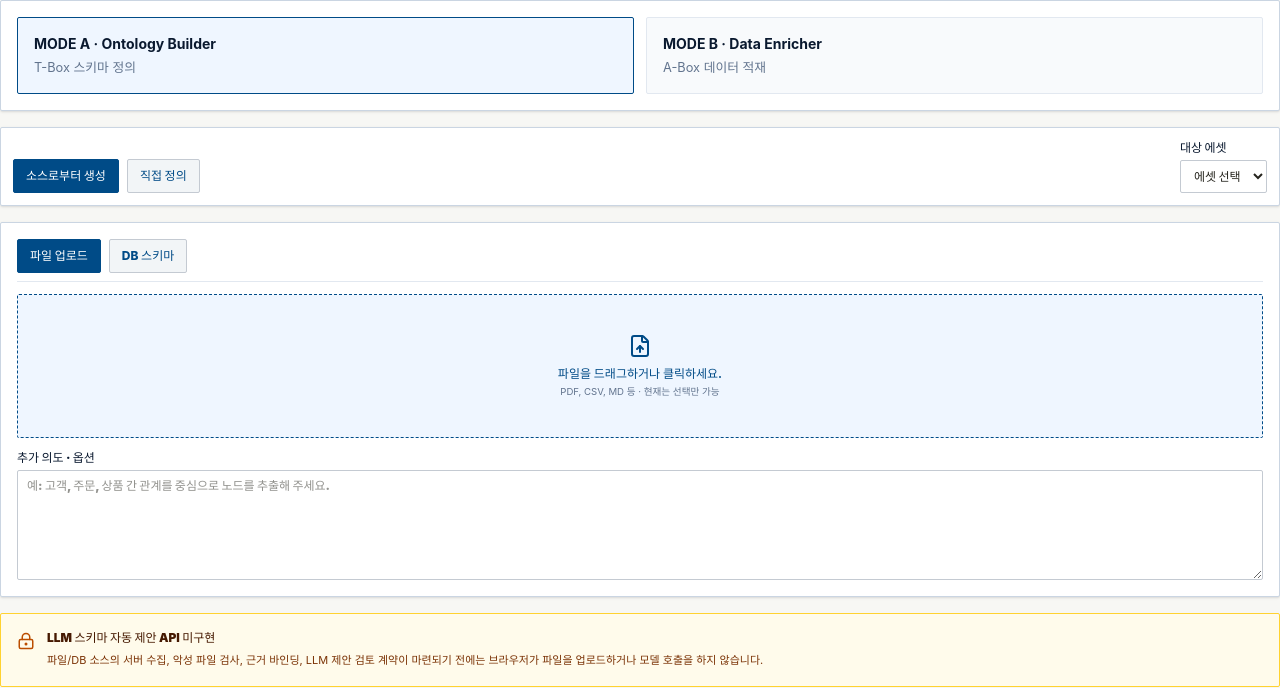
Test case: KnowledgeIngestionStudio › renders at most one owner-scoped history page and follows its opaque cursor
Click the button "MODE B · Data Enricher A-Box 데이터 적재": (742,44) [646,17,1263,94]
(page scrolled)
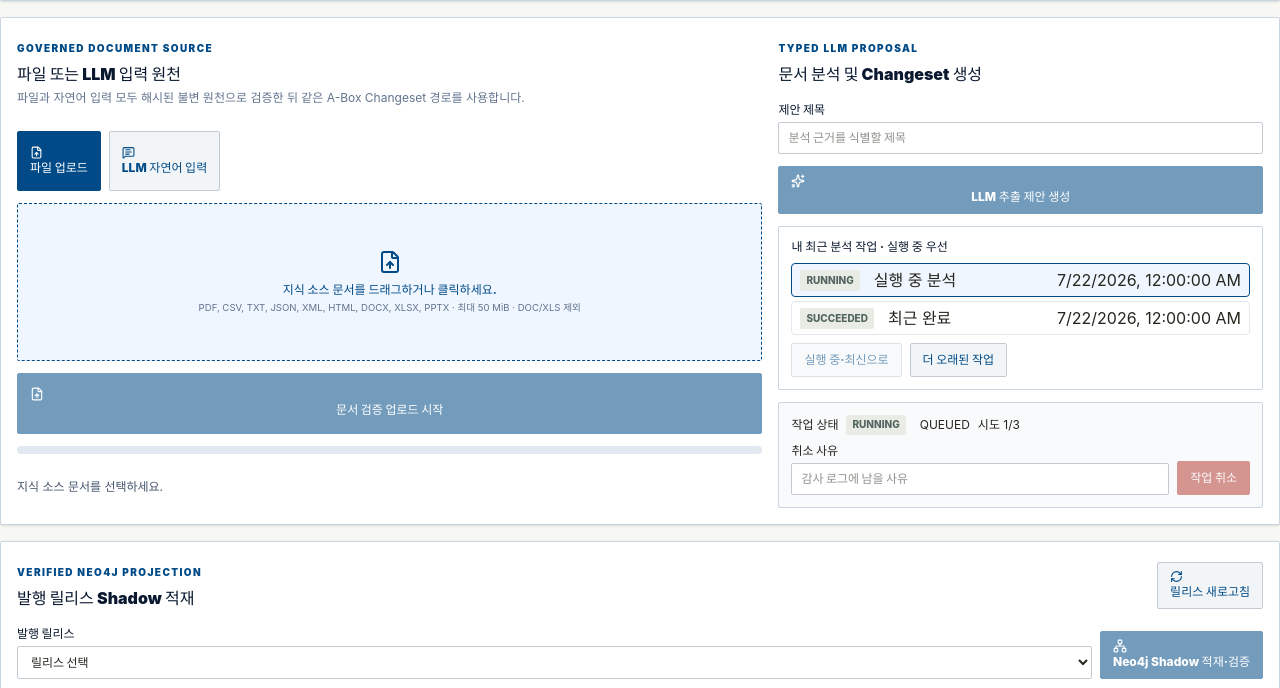
Check: the text "실행 중 분석" is shown, box [874,270,956,290]
Click the button "더 오래된 작업": (958,360) [910,343,1007,377]
(page scrolled)
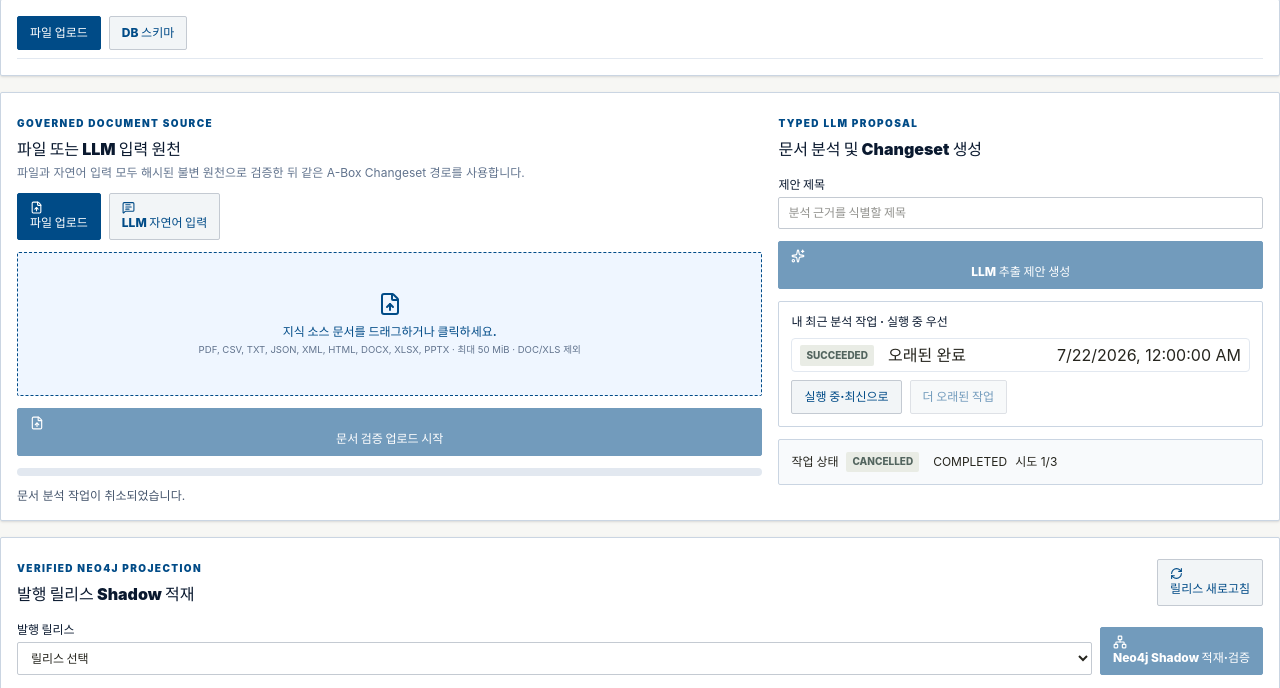
Check: the text "오래된 완료" is shown, box [888,345,966,365]
